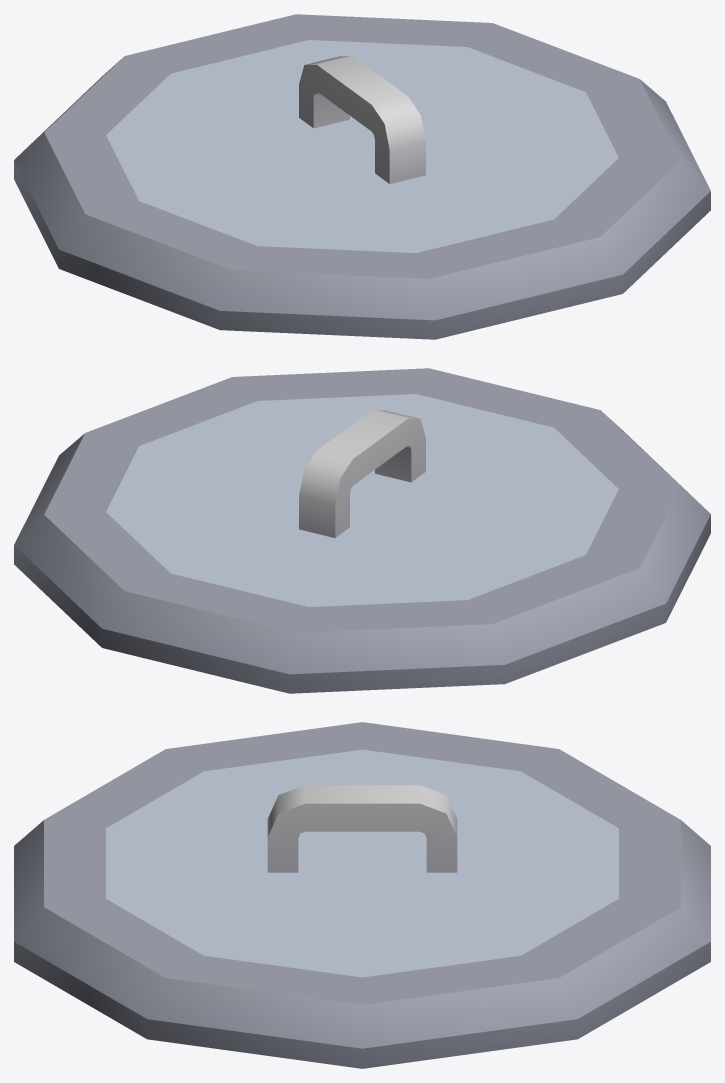
Rendered from pot-stew-lid.glb.
3 views of the same model, one above another, from view 1: azimuth 30°, elevation 25°; view 2: azimuth 150°, elevation 25°; view 3: azimuth 270°, elevation 25° (orthographic). The views are drawn at different scales.
Visible parts, largest first — view 1: pot-stew-lid; view 2: pot-stew-lid; view 3: pot-stew-lid.
Part boxes in pixels (<box>): pot-stew-lid: <box>14,14,710,339</box>; pot-stew-lid: <box>14,368,710,693</box>; pot-stew-lid: <box>14,722,710,1068</box>.
Size of the model in its own units: 0.6574 by 0.1184 by 0.6253.
